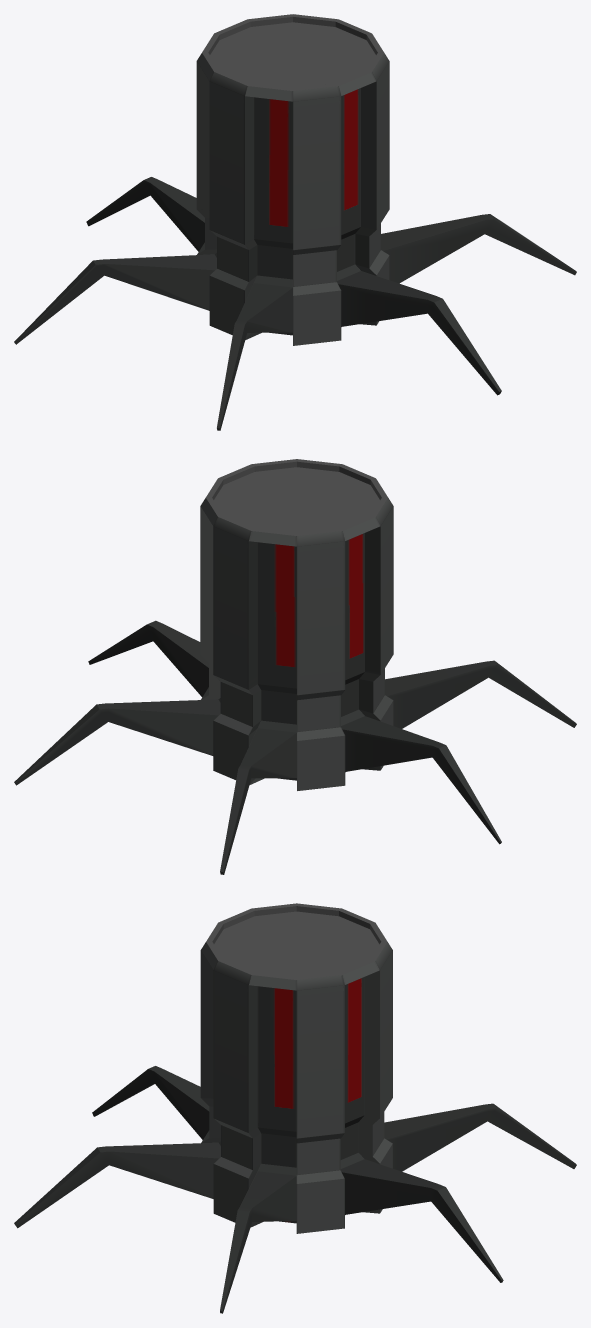
Rendered from WallBomb.fbx.
3 views of the same model, one above another, from view 1: azimuth 30°, elevation 25°; view 2: azimuth 150°, elevation 25°; view 3: azimuth 270°, elevation 25° (orthographic).
Visible parts, largest first — view 1: Bomb_Body; view 2: Bomb_Body; view 3: Bomb_Body.
Boxes of the visible parts, x1,y1,x2,y2 form: Bomb_Body: (14, 14, 576, 430); Bomb_Body: (14, 459, 576, 874); Bomb_Body: (14, 903, 576, 1313).
Size of the model in its own units: 0.1116 by 0.0571 by 0.1121.
Materials: 1 (1 with a texture image).
